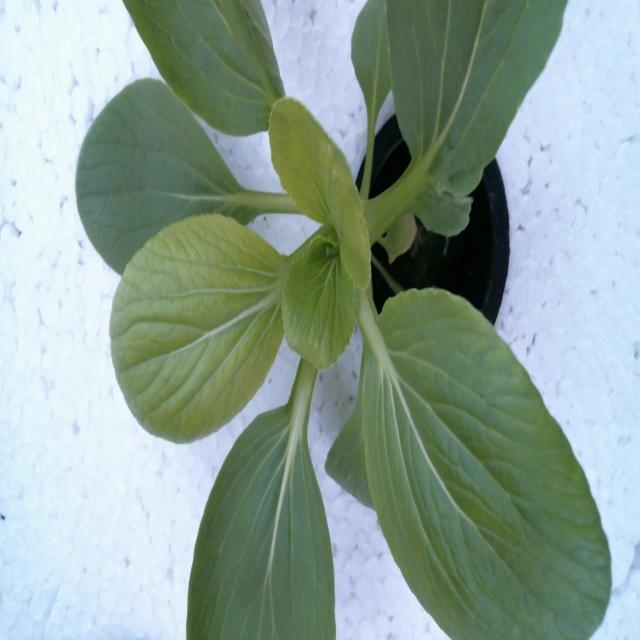pakcoy_tidak_sehat: (105, 86, 399, 436)
